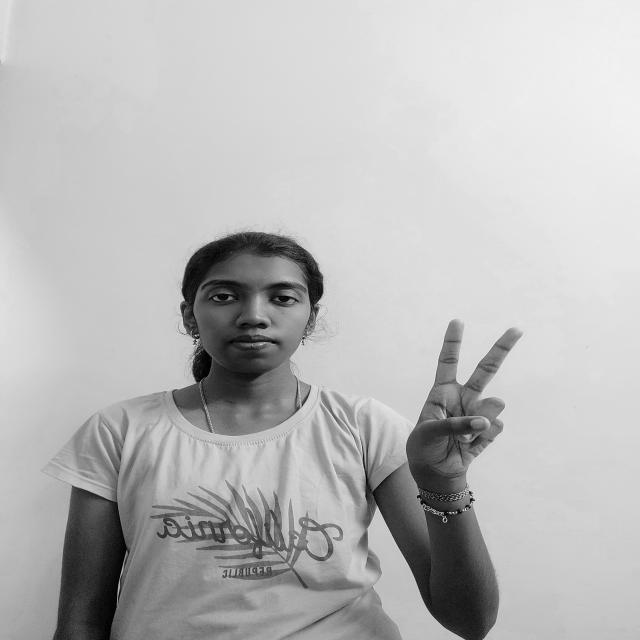Victory: (388, 314, 532, 488)
